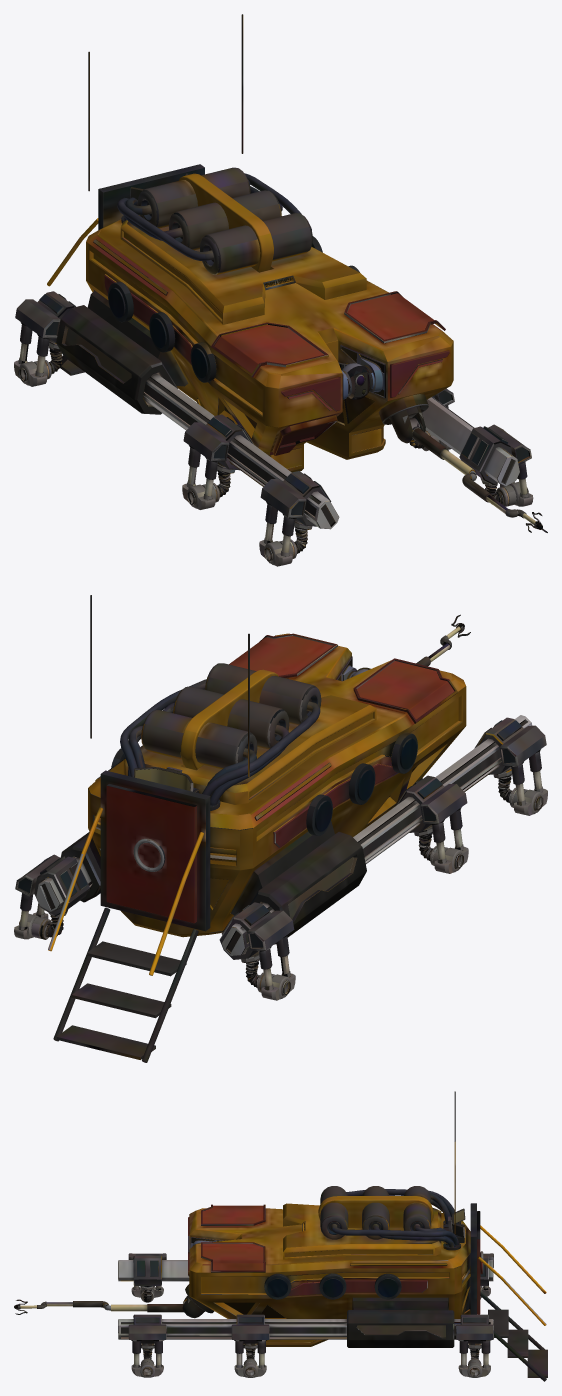
File: rover.glb
3 views of the same model, one above another, from view 1: azimuth 30°, elevation 25°; view 2: azimuth 150°, elevation 25°; view 3: azimuth 270°, elevation 25° (orthographic). The views are drawn at different scales.
Visible parts, largest first — view 1: rover; view 2: rover; view 3: rover.
Part boxes in pixels (x1=…): rover: x1=14, y1=14, x2=547, y2=566; rover: x1=14, y1=595, x2=547, y2=1062; rover: x1=14, y1=1091, x2=547, y2=1381.
Bounding box in the file's own units: 2.53 × 3.52 × 6.78.
Materials: 4 (4 with a texture image).
